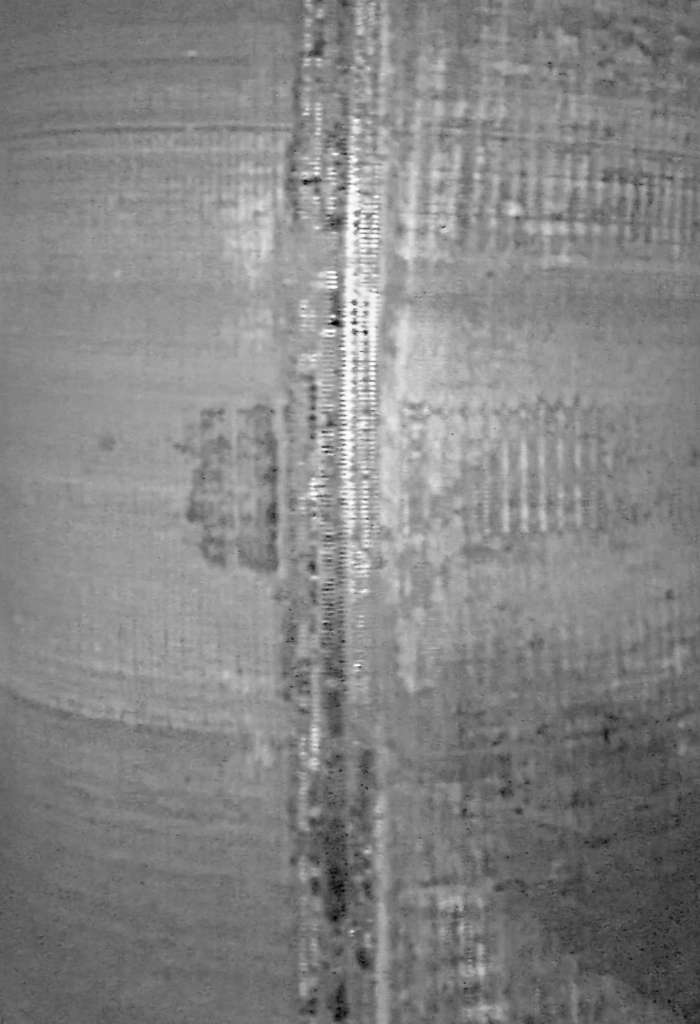splice: (263, 1, 408, 1024)
